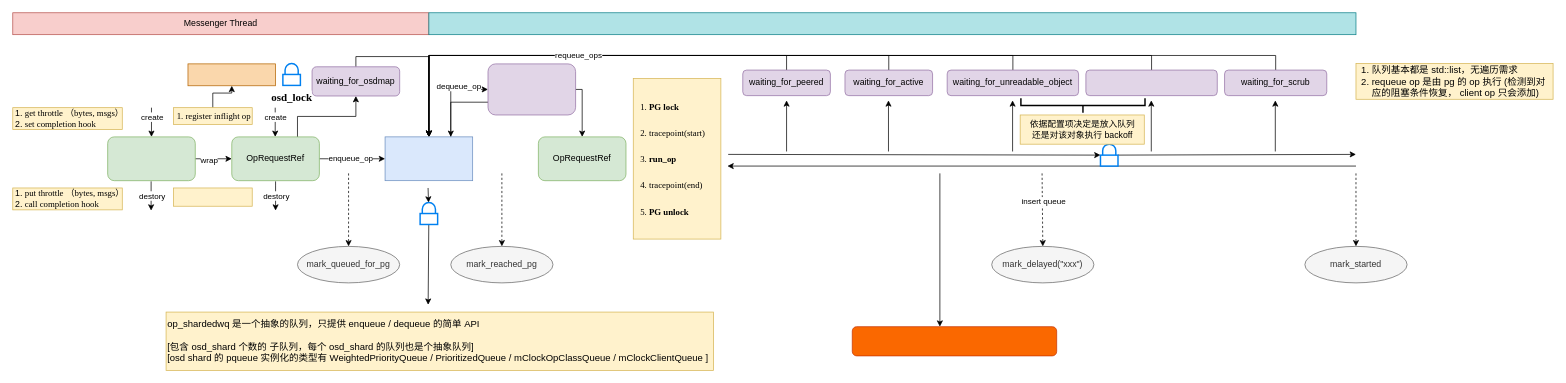
The diagram is 1566 pixels wide and 383 high, and some of its shapes have lost their labels. Here are the shapes that lost their labels. From the top down, the centre of each, then its label:
At (x=892, y=23): "OSD Thread".
At (x=231, y=74): "【op track thread】".
At (x=531, y=89): "slot queues to_proecss waiting waiting_peering".
At (x=1151, y=82): "waiting_for_degraded_object".
At (x=151, y=158): "Message".
At (x=428, y=158): "op_shardedwq".
At (x=1108, y=154): "PG_lock".
At (x=212, y=196): "register history op".
At (x=428, y=213): "shard_lock".
At (x=954, y=341): "PRIVATE-STORAGE-2267 osd: set timeout for client requests in rados".
